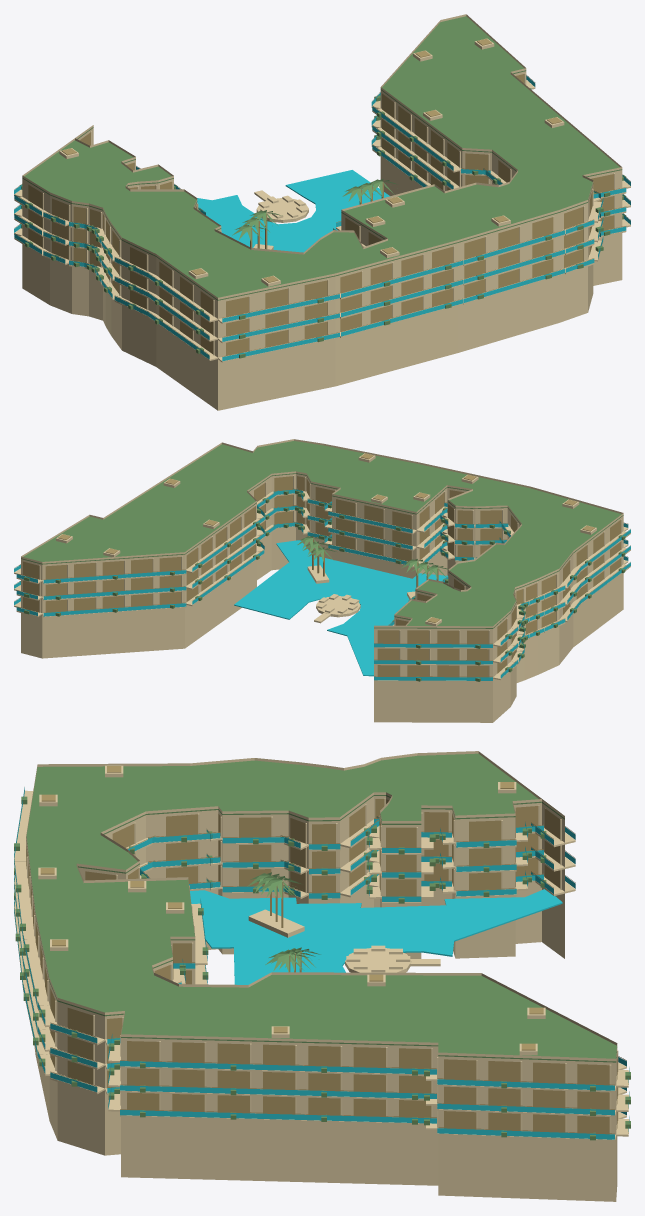
Rendered from laguna-portomaso.glb.
3 renders of one model, top to bottom at view 1: azimuth 30°, elevation 25°; view 2: azimuth 150°, elevation 25°; view 3: azimuth 270°, elevation 25°, orthographic. The views are drawn at different scales.
Parts seen in each view (by area): view 1: Laguna Portomaso; view 2: Laguna Portomaso; view 3: Laguna Portomaso.
Part boxes in pixels (x1,y1,x2,y2): Laguna Portomaso: [14, 14, 630, 410]; Laguna Portomaso: [14, 439, 630, 722]; Laguna Portomaso: [14, 751, 630, 1201].
Size of the model in its own units: 90.86 by 19.26 by 74.26.
